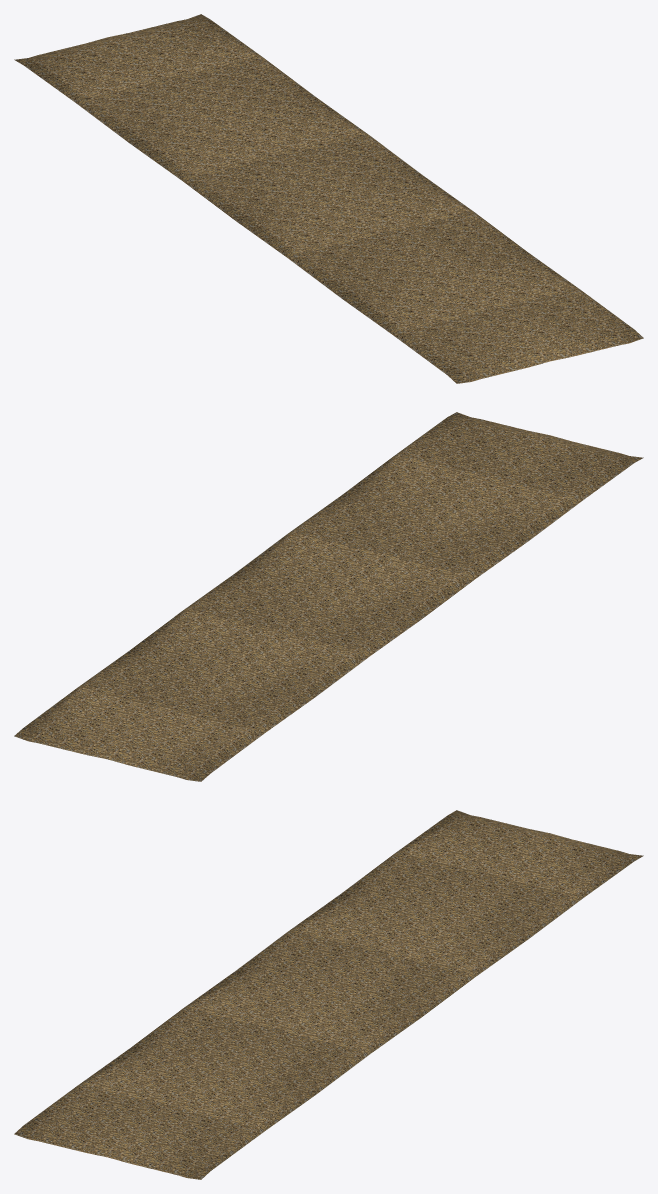
Rendered from HK_0RAIL_JARI.glb.
The picture shows the model from 3 angles, top to bottom: view 1: azimuth 30°, elevation 25°; view 2: azimuth 150°, elevation 25°; view 3: azimuth 330°, elevation 25°; orthographic projection.
Parts seen in each view (by area): view 1: Jari_All; view 2: Jari_All; view 3: Jari_All.
Part boxes in pixels (<box>): Jari_All: <box>14,14,643,383</box>; Jari_All: <box>14,412,643,781</box>; Jari_All: <box>14,810,643,1179</box>.
Bounding box in the file's own units: 25.52 × 0.987 × 105.
1 material, 1 textured.
